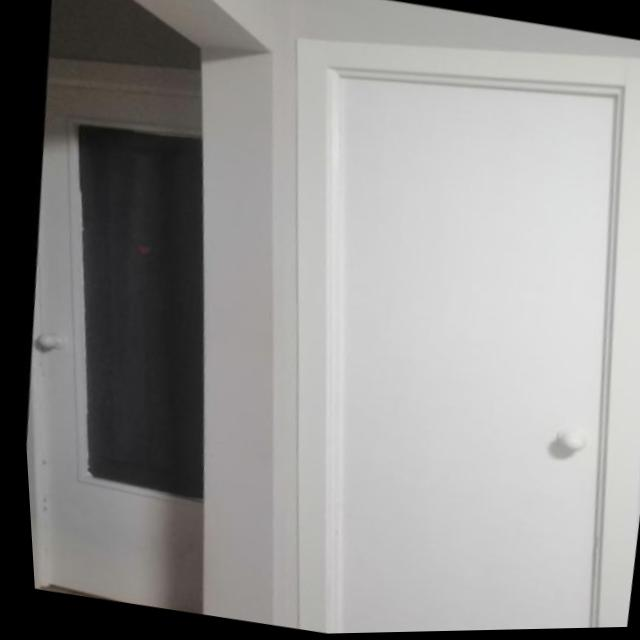door_handle: (524, 426, 582, 470)
